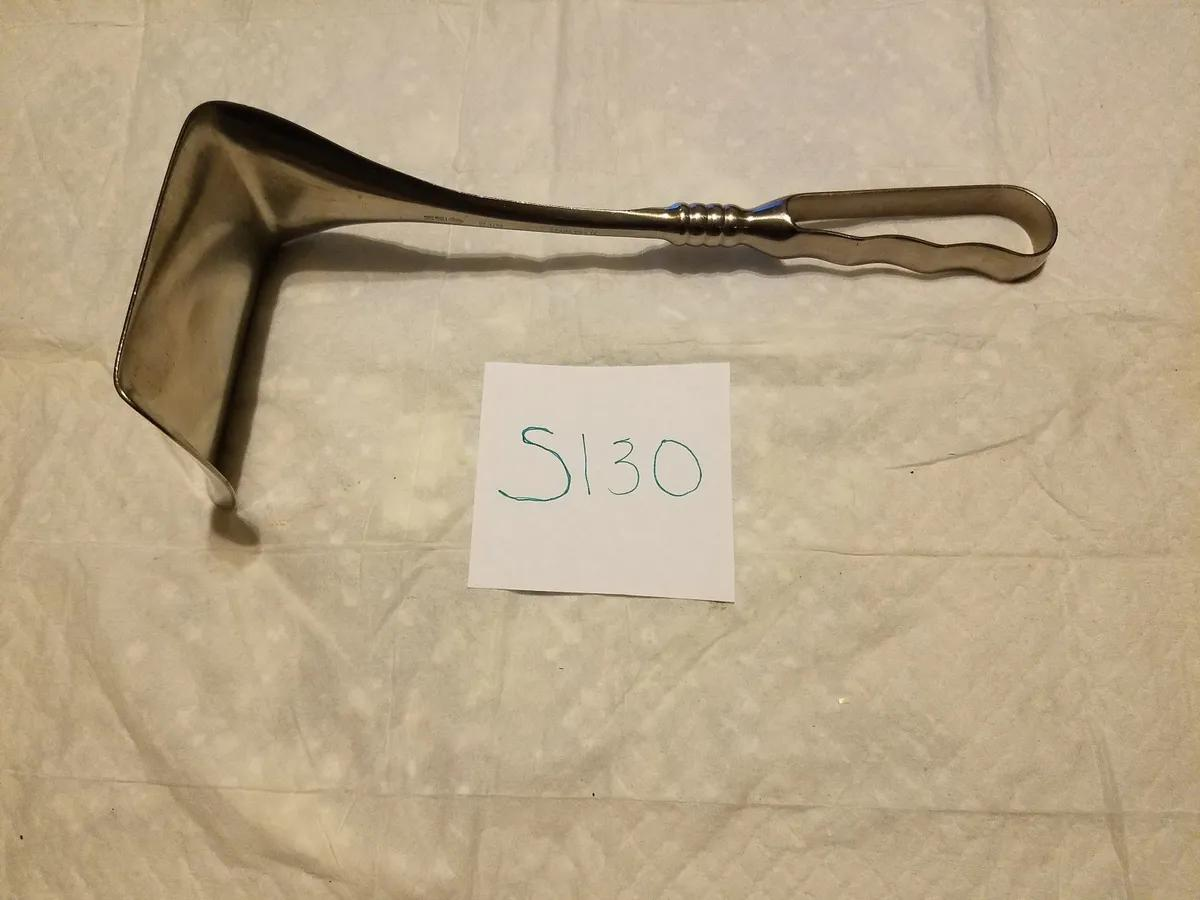Kelly Retractor: (91, 84, 1064, 481)
